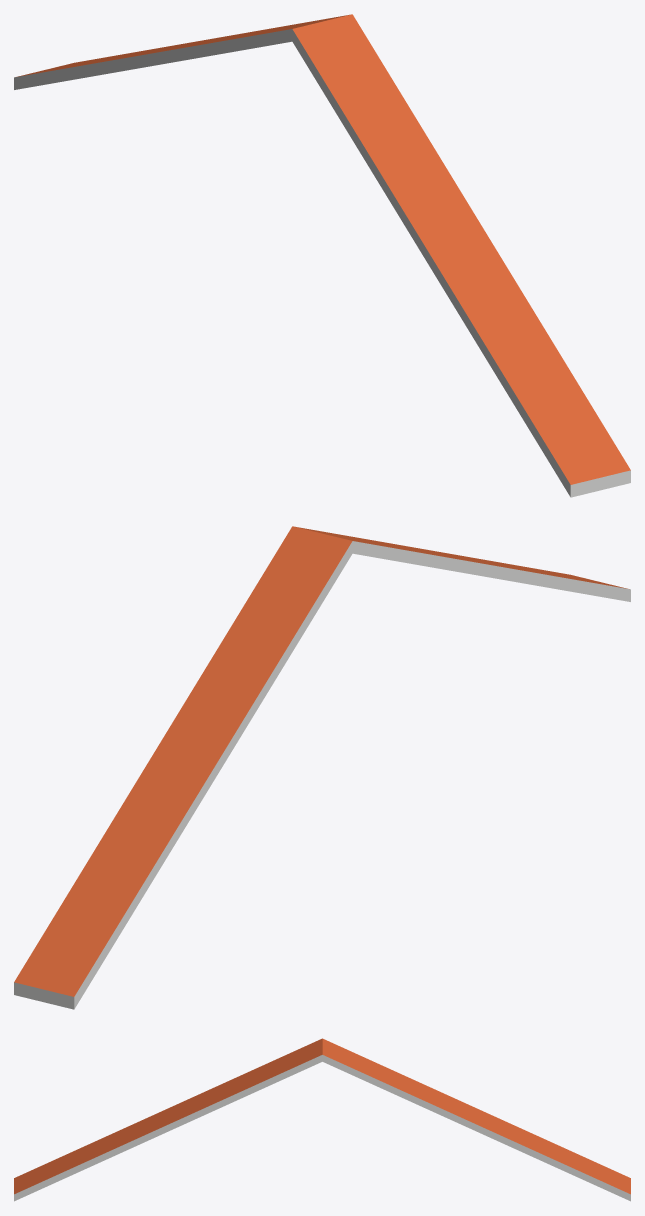
File: telhado_duas_aguas_v8_i50_0_5m.glb
3 renders of one model, top to bottom at view 1: azimuth 30°, elevation 25°; view 2: azimuth 150°, elevation 25°; view 3: azimuth 270°, elevation 25°, orthographic. The views are drawn at different scales.
Parts seen in each view (by area): view 1: telhado_duas_aguas_v8_i50_0_5m; view 2: telhado_duas_aguas_v8_i50_0_5m; view 3: telhado_duas_aguas_v8_i50_0_5m.
Part boxes in pixels (box(x1,y1,x2,y2)): telhado_duas_aguas_v8_i50_0_5m: box(14, 14, 630, 497); telhado_duas_aguas_v8_i50_0_5m: box(14, 526, 630, 1009); telhado_duas_aguas_v8_i50_0_5m: box(14, 1038, 630, 1201).
Bounding box in the file's own units: 0.5 × 2.1 × 8.
